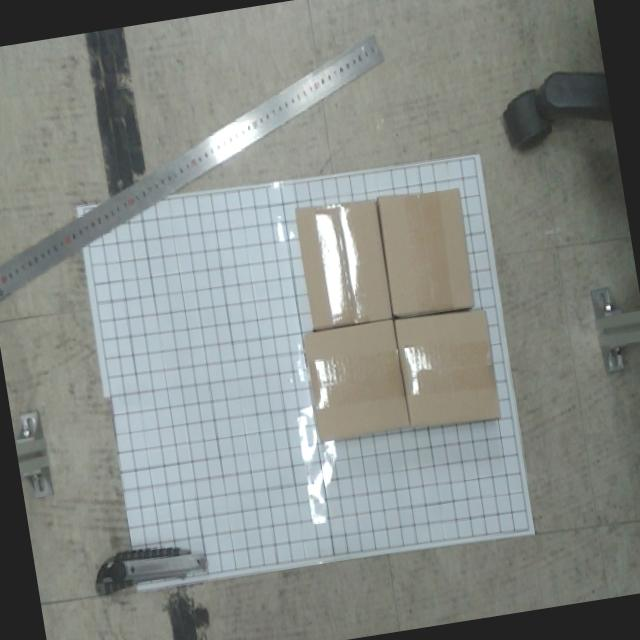box: (372, 184, 479, 320), (391, 307, 505, 433), (295, 196, 395, 332), (301, 321, 411, 443)
